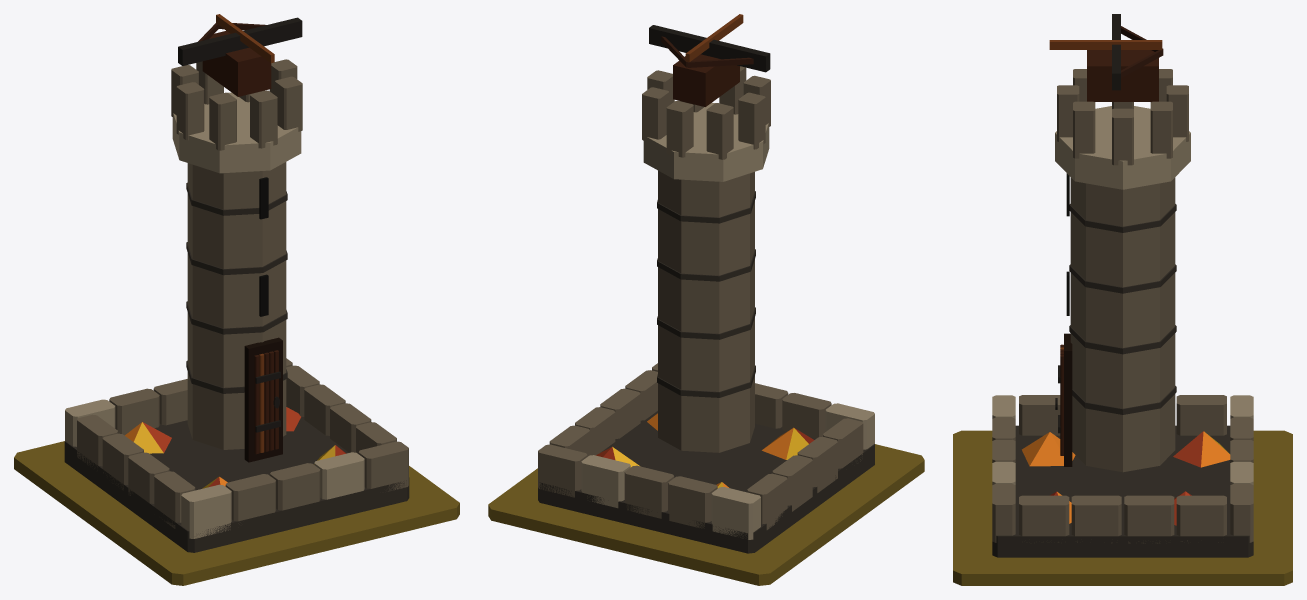
The model's file is ballista_t1.glb.
3 renders of one model, left to right at view 1: azimuth 30°, elevation 25°; view 2: azimuth 150°, elevation 25°; view 3: azimuth 270°, elevation 25°, orthographic. The views are drawn at different scales.
Parts seen in each view (by area): view 1: MMR | ballista | T01 Architecture.001, MMR | ballista | Tier 01 Ground.001, MMR | ballista | T01 Autumn Dressing.001; view 2: MMR | ballista | T01 Architecture.001, MMR | ballista | Tier 01 Ground.001, MMR | ballista | T01 Autumn Dressing.001; view 3: MMR | ballista | T01 Architecture.001, MMR | ballista | Tier 01 Ground.001, MMR | ballista | T01 Autumn Dressing.001.
Boxes of the visible parts, x1=… form: MMR | ballista | T01 Architecture.001: x1=64, y1=14, x2=409, y2=552; MMR | ballista | Tier 01 Ground.001: x1=14, y1=441, x2=459, y2=585; MMR | ballista | T01 Autumn Dressing.001: x1=125, y1=407, x2=346, y2=488; MMR | ballista | T01 Architecture.001: x1=538, y1=14, x2=874, y2=553; MMR | ballista | Tier 01 Ground.001: x1=488, y1=444, x2=924, y2=585; MMR | ballista | T01 Autumn Dressing.001: x1=596, y1=413, x2=814, y2=488; MMR | ballista | T01 Architecture.001: x1=992, y1=14, x2=1253, y2=557; MMR | ballista | Tier 01 Ground.001: x1=953, y1=430, x2=1292, y2=585; MMR | ballista | T01 Autumn Dressing.001: x1=1022, y1=431, x2=1230, y2=525.
Size of the model in its own units: 1.3 by 2 by 1.3.
1 material, 1 textured.
